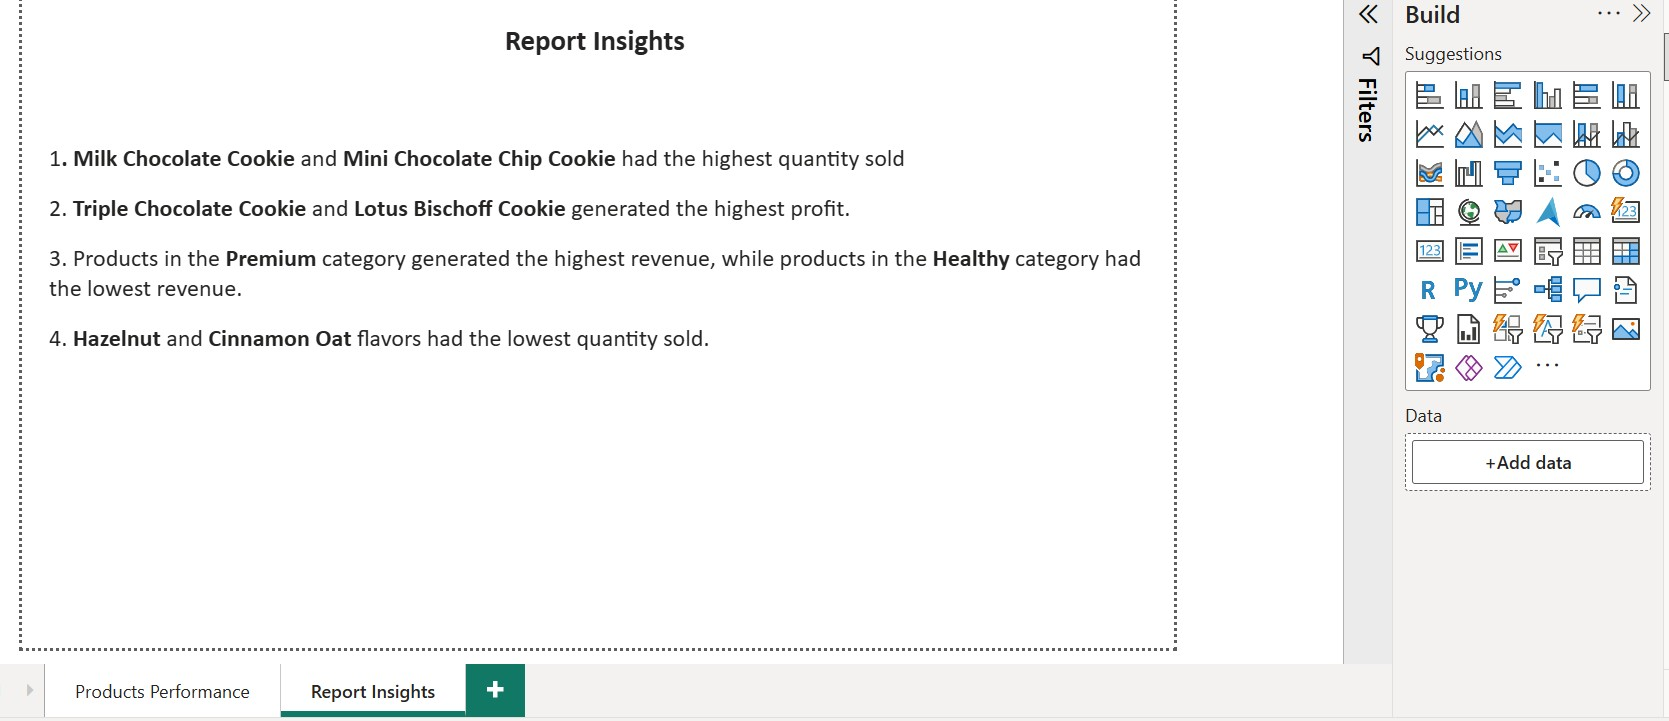

The dashboard page shown, as its layout file describes it:
{"tool":"powerbi","page":{"name":"Report insights","canvas":[1280,720],"ordinal":1},"visuals":[{"type":"textbox","box":[25,170,1227.5,340],"z":0},{"type":"textbox","box":[452.5,17.5,372.5,82.5],"z":1000}]}

Visuals, with their boxes on the page's 1280x720 design canvas (x1, y1, x2, y2). These are canvas units, not pixel positions in the 1669x721 screenshot, which may show the page scaled, cropped or inside an application window:
textbox: select_region(25, 170, 1252, 510)
textbox: select_region(452, 18, 825, 100)
